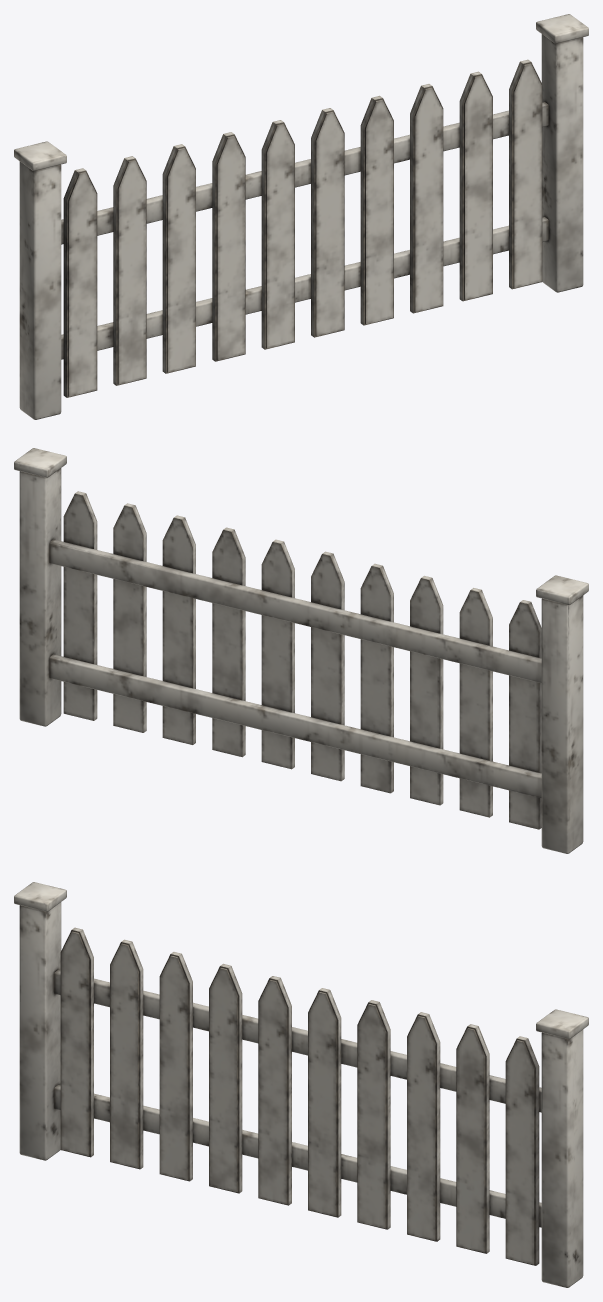
File: picket_fence.fbx
3 renders of one model, top to bottom at view 1: azimuth 30°, elevation 25°; view 2: azimuth 150°, elevation 25°; view 3: azimuth 330°, elevation 25°, orthographic.
Visible parts, largest first — view 1: Body; view 2: Body; view 3: Body.
Part boxes in pixels (x1,y1,x2,y2): Body: (14, 14, 588, 419); Body: (14, 448, 588, 853); Body: (14, 882, 588, 1287).
Bounding box in the file's own units: 8.1 × 3.62 × 0.5.
1 material, 1 textured.
